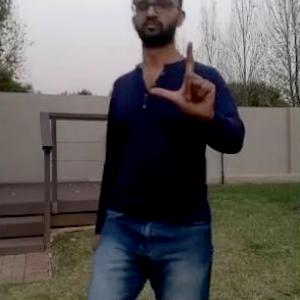land_hand: (146, 36, 217, 124)
